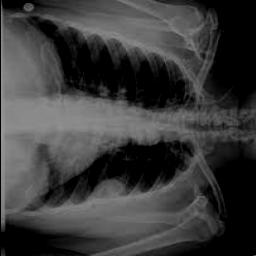cancer: (83, 180, 121, 205)
